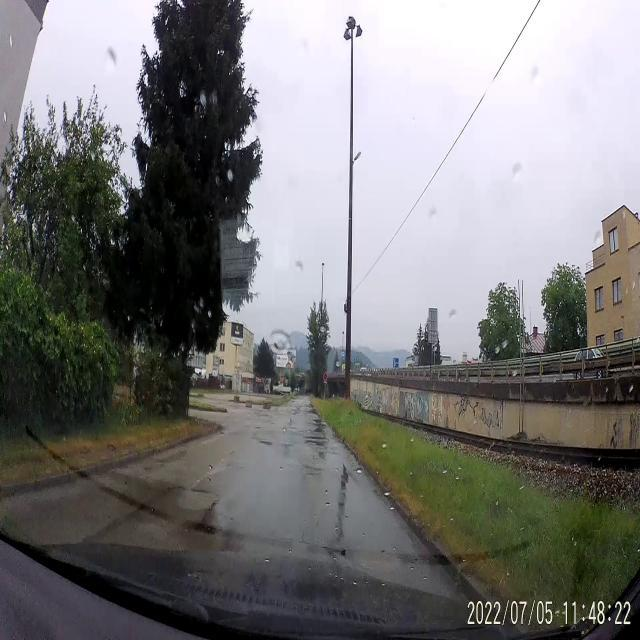Manhole: (351, 541, 404, 580)
Pothole: (304, 464, 322, 479), (166, 483, 186, 495), (304, 432, 328, 441), (260, 440, 276, 448), (254, 424, 263, 432)
